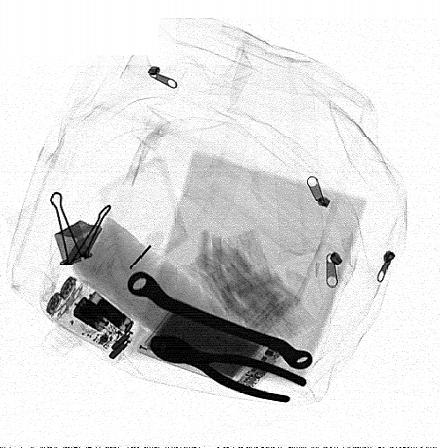Pliers: (149, 333, 308, 406)
Powerbank: (133, 303, 285, 395)
Wrench: (128, 270, 315, 369)
